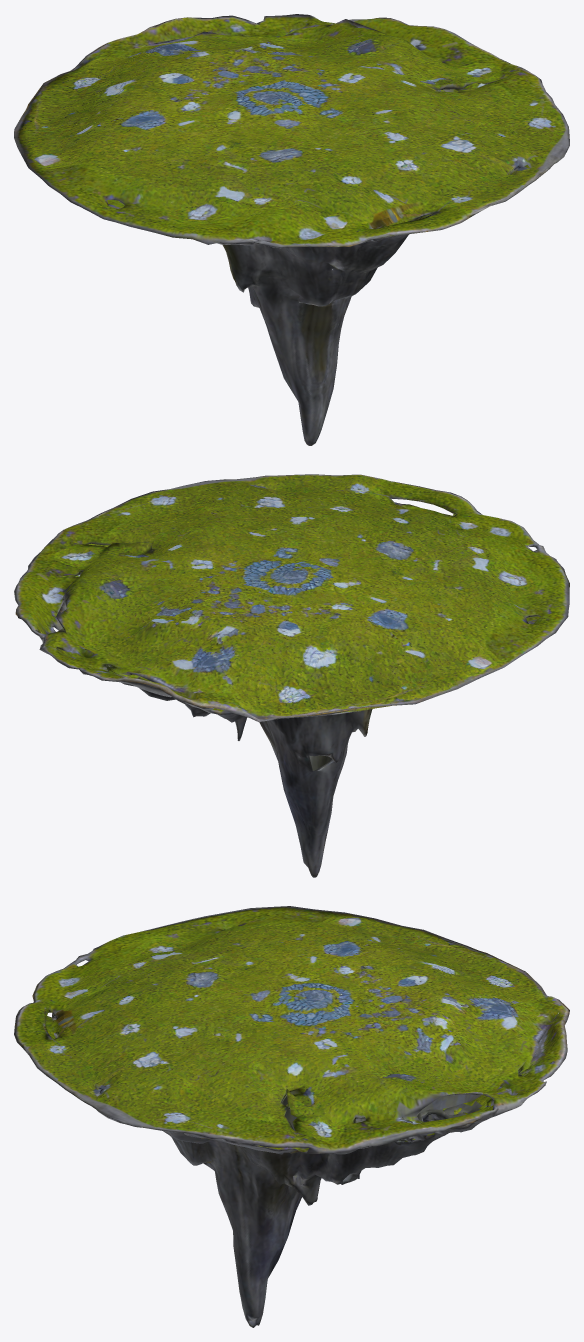
The model's file is floating_island2.glb.
3 views of the same model, one above another, from view 1: azimuth 30°, elevation 25°; view 2: azimuth 150°, elevation 25°; view 3: azimuth 270°, elevation 25° (orthographic).
Visible parts, largest first — view 1: Object_2; view 2: Object_2; view 3: Object_2.
Boxes of the visible parts, x1,y1,x2,y2 form: Object_2: (14, 14, 569, 445); Object_2: (14, 474, 569, 877); Object_2: (14, 906, 569, 1327).
Size of the model in its own units: 1.99 by 1.29 by 1.98.
Materials: 1 (1 with a texture image).
